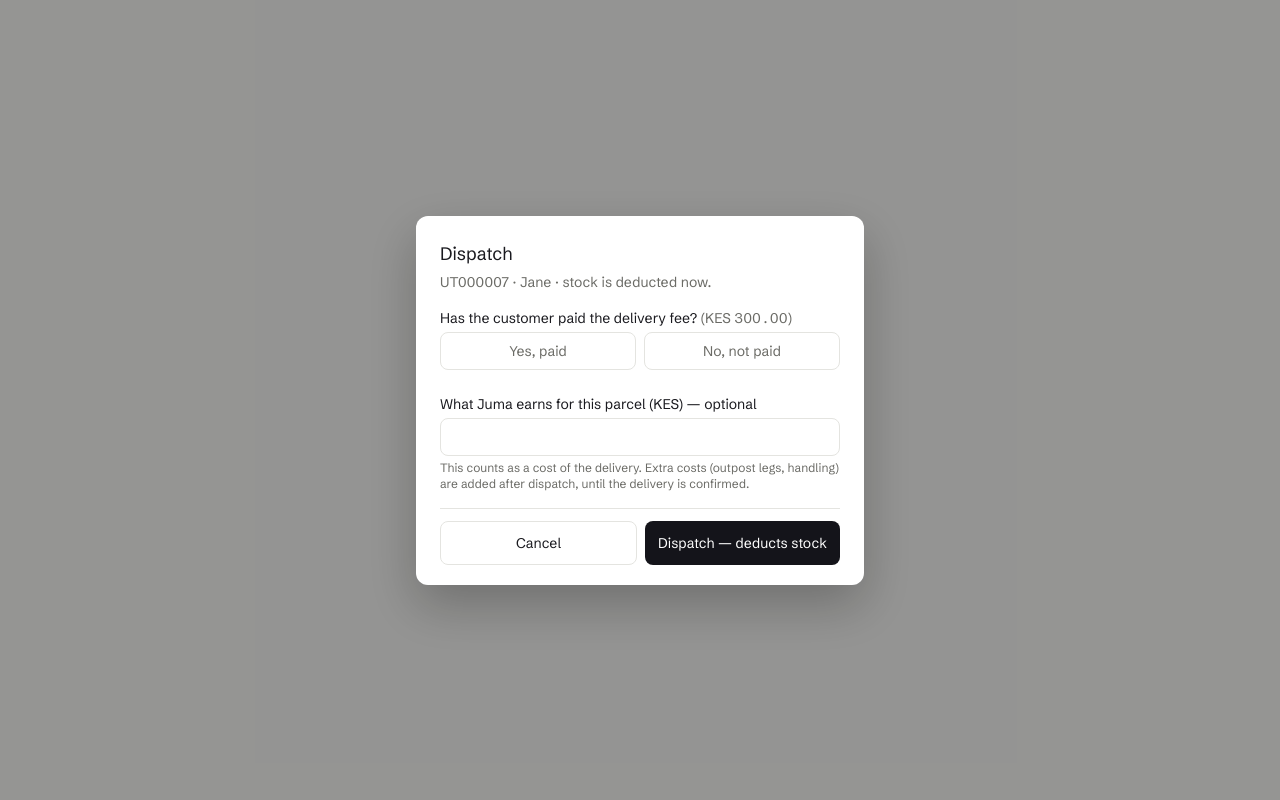
Scenario: DispatchSheet › refuses an amount above the fee charged
The image size is (1280, 800).
Click the button "Yes, paid" at (538, 350), box top-left (440, 332), bottom-right (636, 370)
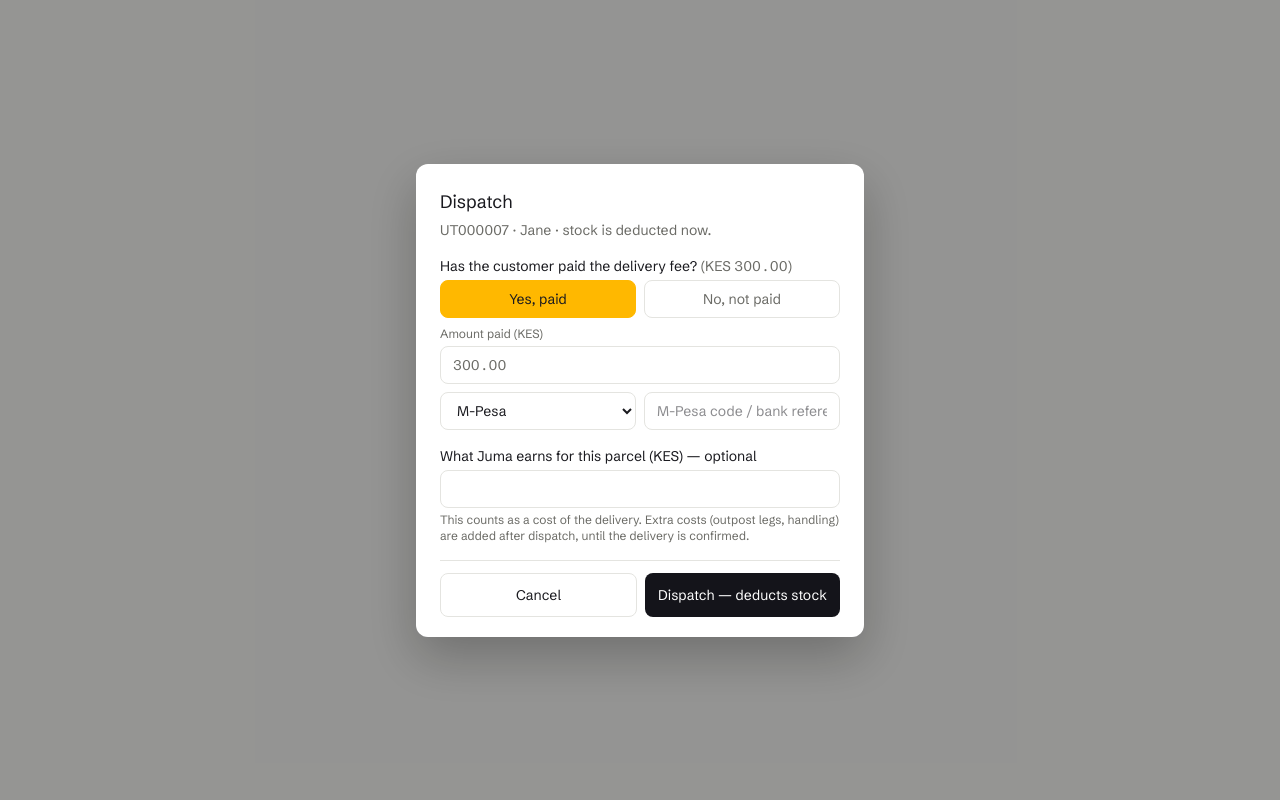
Replace the text in the number field labelled "Amount paid (KES)" with "500" at (640, 364), box top-left (440, 346), bottom-right (840, 384)
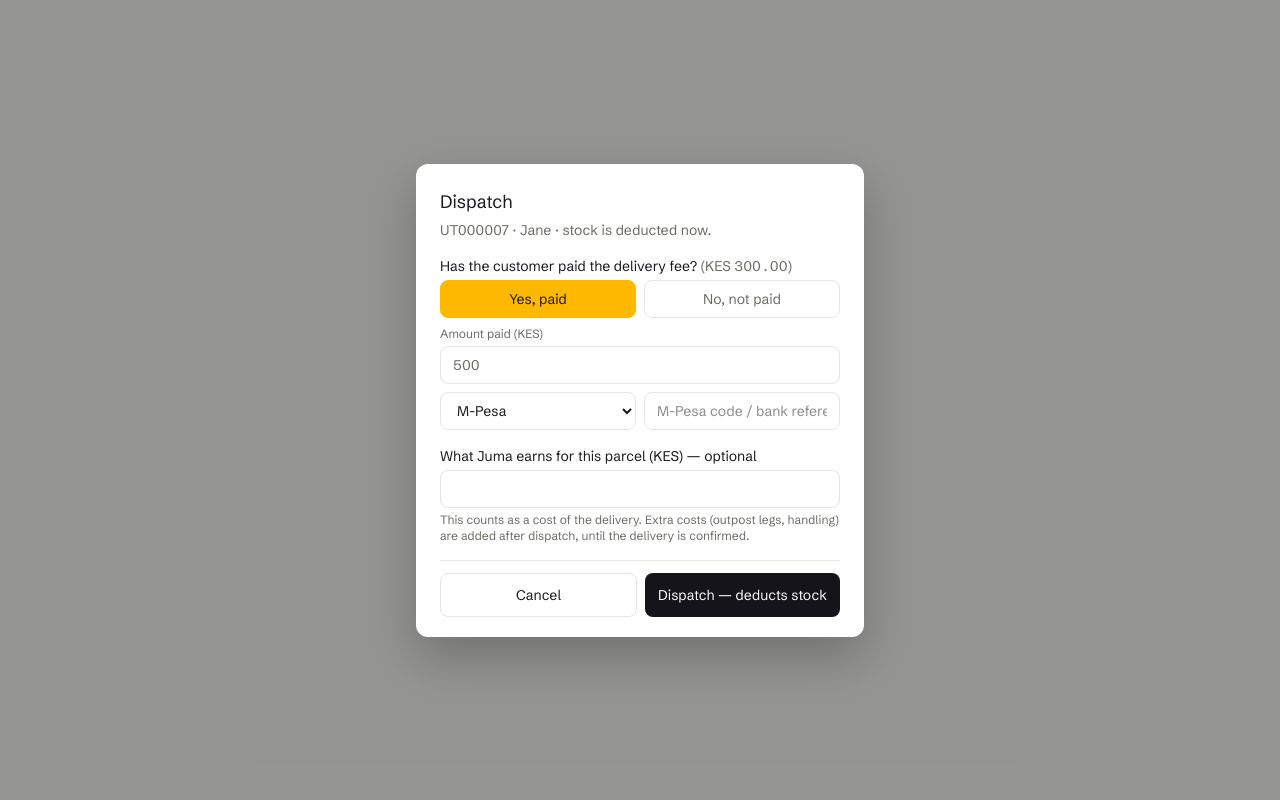
Click the button "Dispatch — deducts stock" at (742, 594), box top-left (645, 572), bottom-right (840, 616)
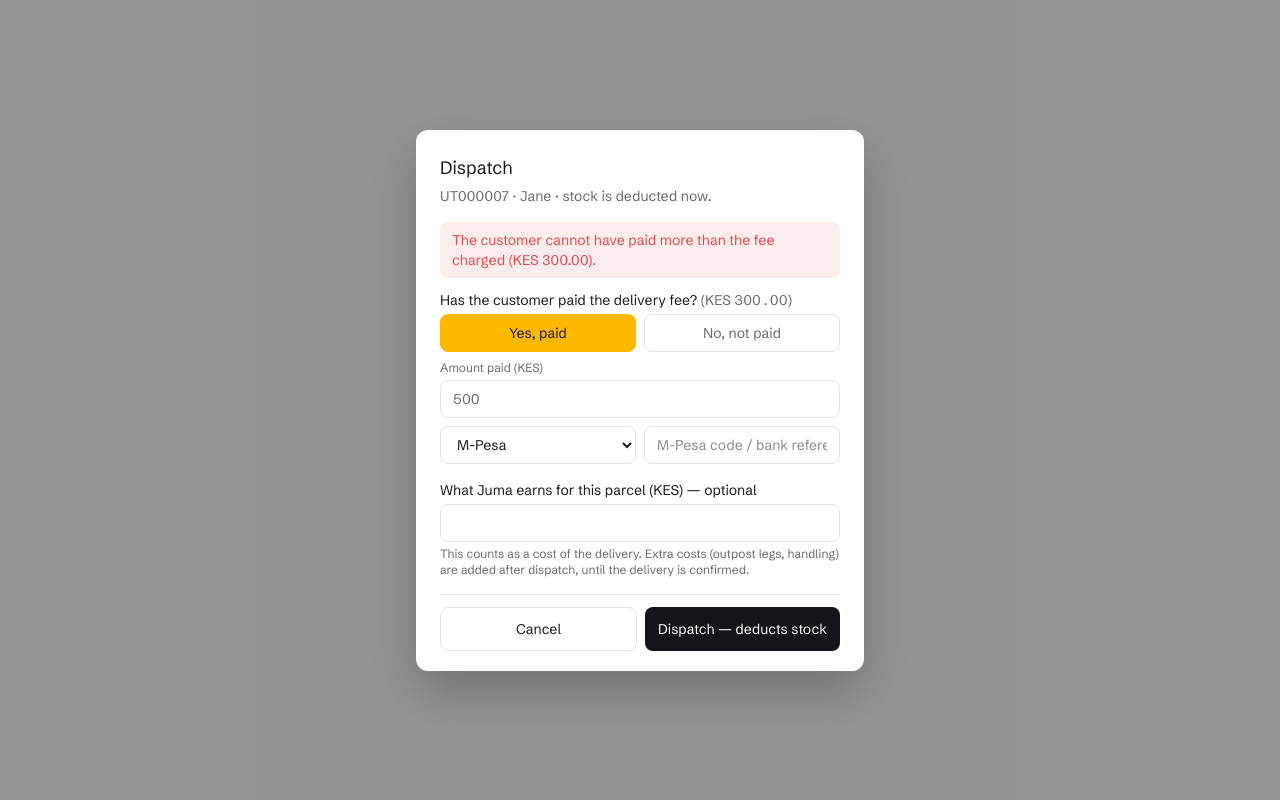
Expected: the message shows "cannot have paid more", top-left (452, 230), bottom-right (774, 268)
